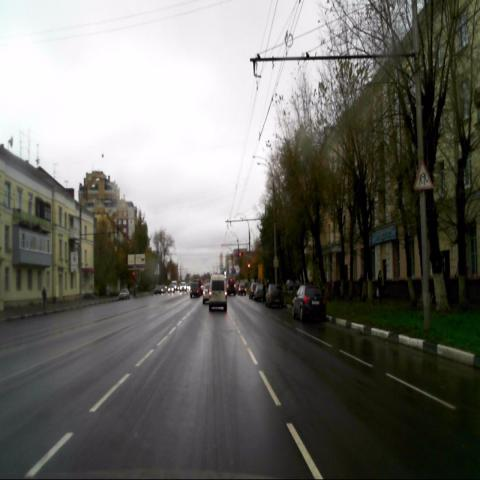1_23: (413, 160, 433, 190)
